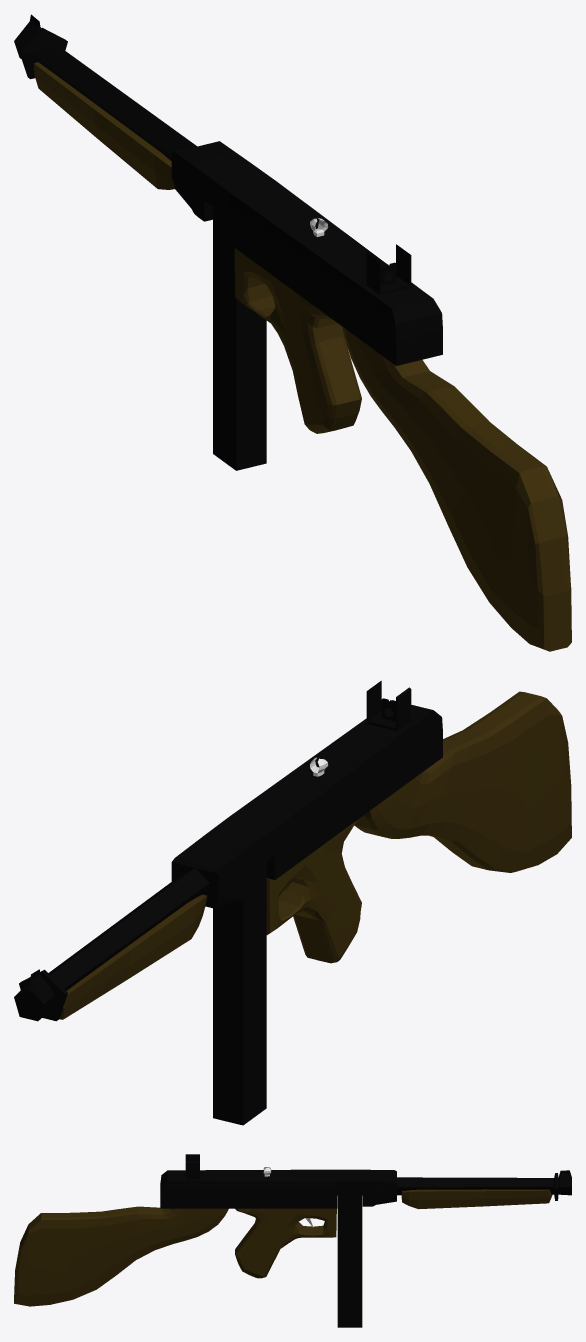
File: thompson.glb
3 renders of one model, top to bottom at view 1: azimuth 30°, elevation 25°; view 2: azimuth 150°, elevation 25°; view 3: azimuth 270°, elevation 25°, orthographic. The views are drawn at different scales.
Parts seen in each view (by area): view 1: thompsonbase, thompsonmagazine; view 2: thompsonbase, thompsonmagazine; view 3: thompsonbase, thompsonmagazine.
Boxes of the visible parts, x1,y1,x2,y2 form: thompsonbase: (14, 14, 571, 651); thompsonmagazine: (213, 207, 266, 470); thompsonbase: (14, 680, 571, 1021); thompsonmagazine: (213, 862, 266, 1125); thompsonbase: (14, 1154, 571, 1306); thompsonmagazine: (337, 1195, 362, 1327).
Bounding box in the file's own units: 0.04 × 0.2581 × 0.786.
